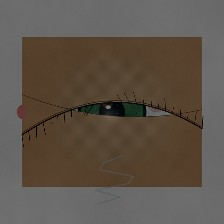foreign_body_visible: (105, 122, 130, 142)
